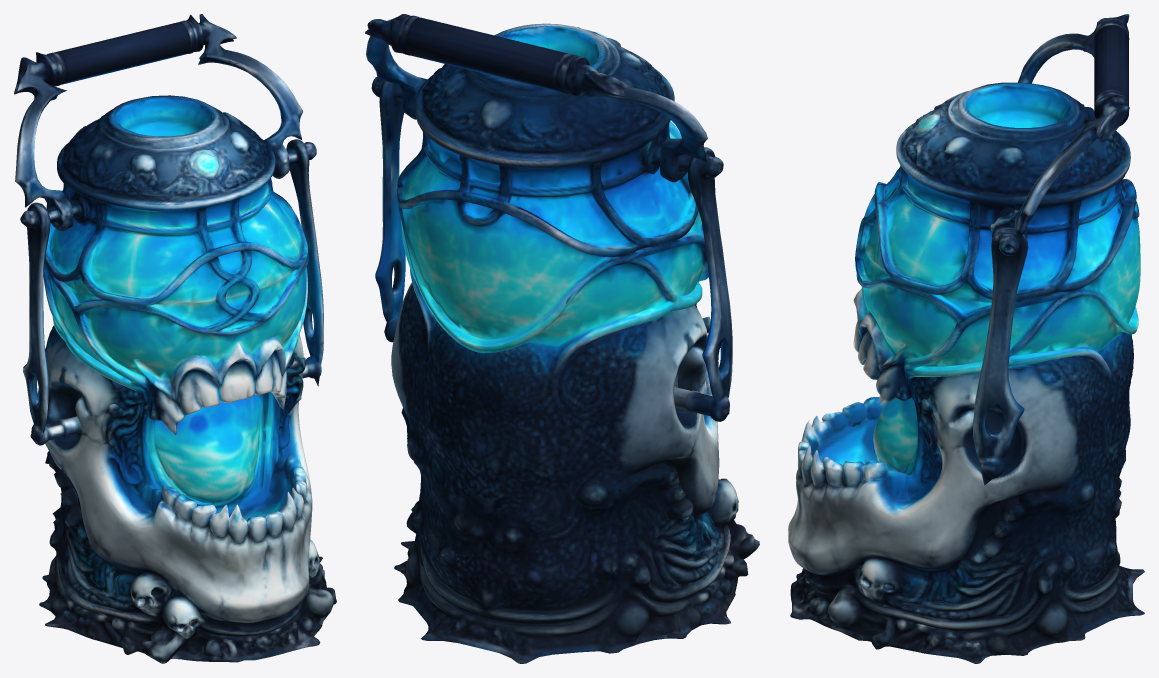
Rendered from biru.glb.
3 views of the same model, side by side, from view 1: azimuth 30°, elevation 25°; view 2: azimuth 150°, elevation 25°; view 3: azimuth 270°, elevation 25° (orthographic). The views are drawn at different scales.
Visible parts, largest first — view 1: material; view 2: material; view 3: material.
Part boxes in pixels (bbox=[...]): material: bbox=[14, 14, 336, 663]; material: bbox=[365, 14, 759, 663]; material: bbox=[788, 14, 1144, 663].
Size of the model in its own units: 0.6043 by 1.01 by 0.6064.
1 material, 1 textured.
